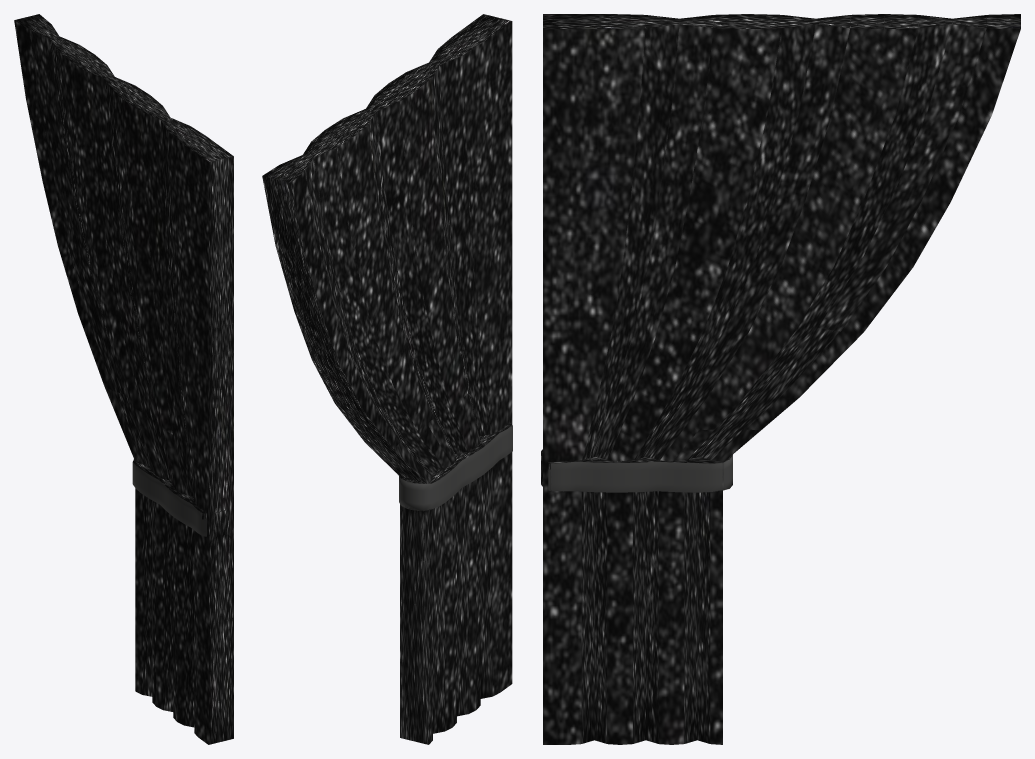
The model's file is MS_Curtain.fbx.
3 views of the same model, side by side, from view 1: azimuth 30°, elevation 25°; view 2: azimuth 150°, elevation 25°; view 3: azimuth 270°, elevation 25° (orthographic). The views are drawn at different scales.
Parts seen in each view (by area): view 1: MS_Curtain; view 2: MS_Curtain; view 3: MS_Curtain.
Part boxes in pixels (x1,y1,x2,y2): MS_Curtain: [14, 14, 233, 744]; MS_Curtain: [262, 14, 512, 744]; MS_Curtain: [541, 14, 1020, 744].
Size of the model in its own units: 34.94 by 587 by 356.
